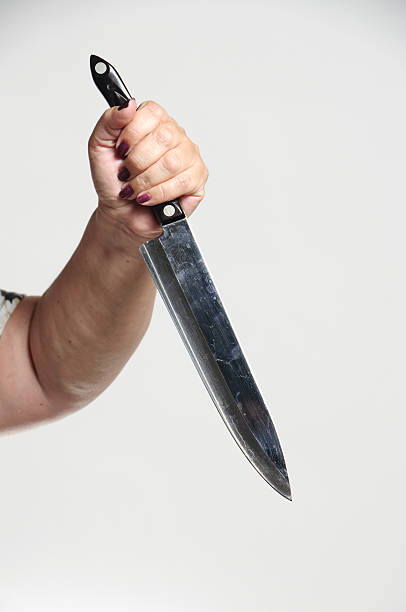knife: (87, 51, 296, 503)
